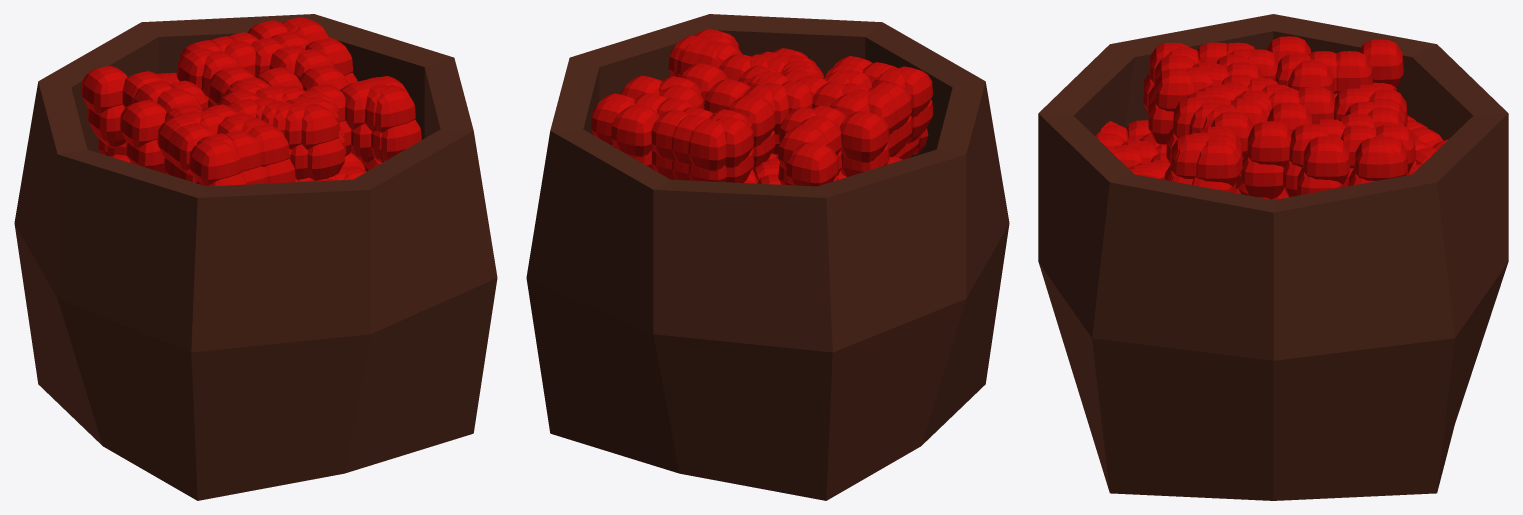
Rendered from fresas.glb.
3 views of the same model, side by side, from view 1: azimuth 30°, elevation 25°; view 2: azimuth 150°, elevation 25°; view 3: azimuth 270°, elevation 25° (orthographic). The views are drawn at different scales.
Parts seen in each view (by area): view 1: Cubo.001, Cubo.004, Cubo, Cubo.003, Cubo.002; view 2: Cubo.001, Cubo.004, Cubo, Cubo.002; view 3: Cubo.001, Cubo.004, Cubo, Cubo.003, Cubo.002.
Part boxes in pixels (left/top/right/bottom): Cubo.001: left=14, top=14, right=497, bottom=500; Cubo.004: left=81, top=17, right=415, bottom=185; Cubo: left=87, top=72, right=421, bottom=186; Cubo.003: left=296, top=152, right=381, bottom=182; Cubo.002: left=98, top=72, right=296, bottom=181; Cubo.001: left=526, top=14, right=1009, bottom=500; Cubo.004: left=591, top=29, right=933, bottom=186; Cubo: left=592, top=73, right=933, bottom=185; Cubo.002: left=744, top=153, right=902, bottom=184; Cubo.001: left=1038, top=14, right=1508, bottom=500; Cubo.004: left=1149, top=36, right=1415, bottom=186; Cubo: left=1142, top=73, right=1408, bottom=199; Cubo.003: left=1095, top=120, right=1288, bottom=199; Cubo.002: left=1139, top=115, right=1448, bottom=195.
Bounding box in the file's own units: 9.61 × 7.52 × 9.61.
